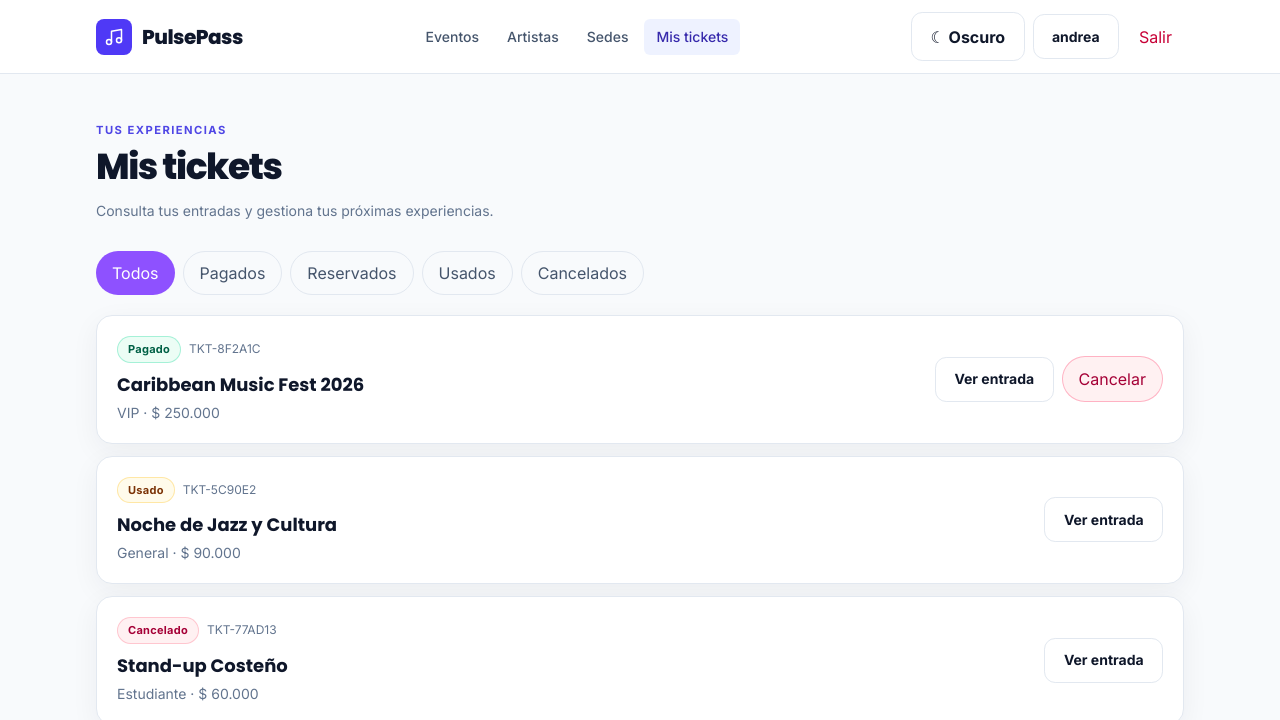
Scenario: mis tickets › lista los tickets del email de la sesión y filtra por estado en el cliente
Expected: the link "Noche de Jazz y Cultura" is shown, [117,512,337,537]
Click the button "Usados" at (467, 273), box [422,251,513,295]
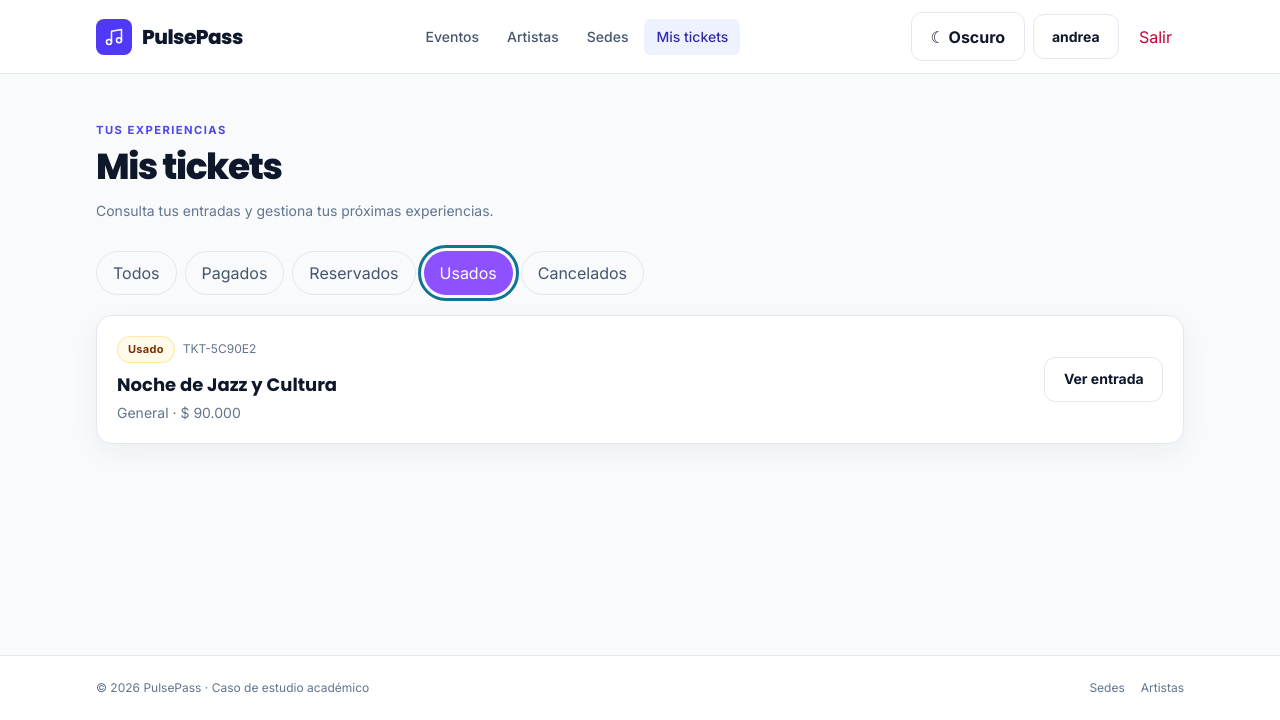
Expected: the link "Noche de Jazz y Cultura" is shown, [117,372,337,397]
Expected: the link "Stand-up Costeño" is gone
